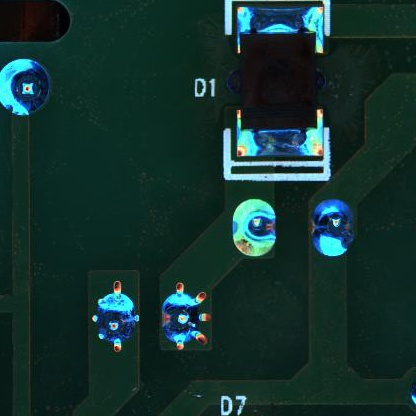spot: (91, 281, 139, 353), (160, 283, 210, 350), (1, 59, 55, 119), (232, 199, 279, 259), (311, 200, 356, 259)
